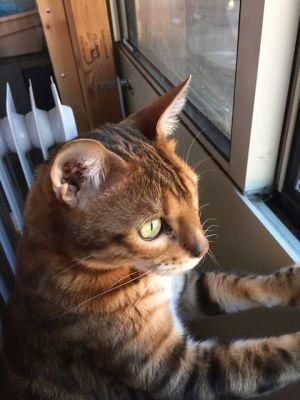bengal: (34, 68, 225, 282)
